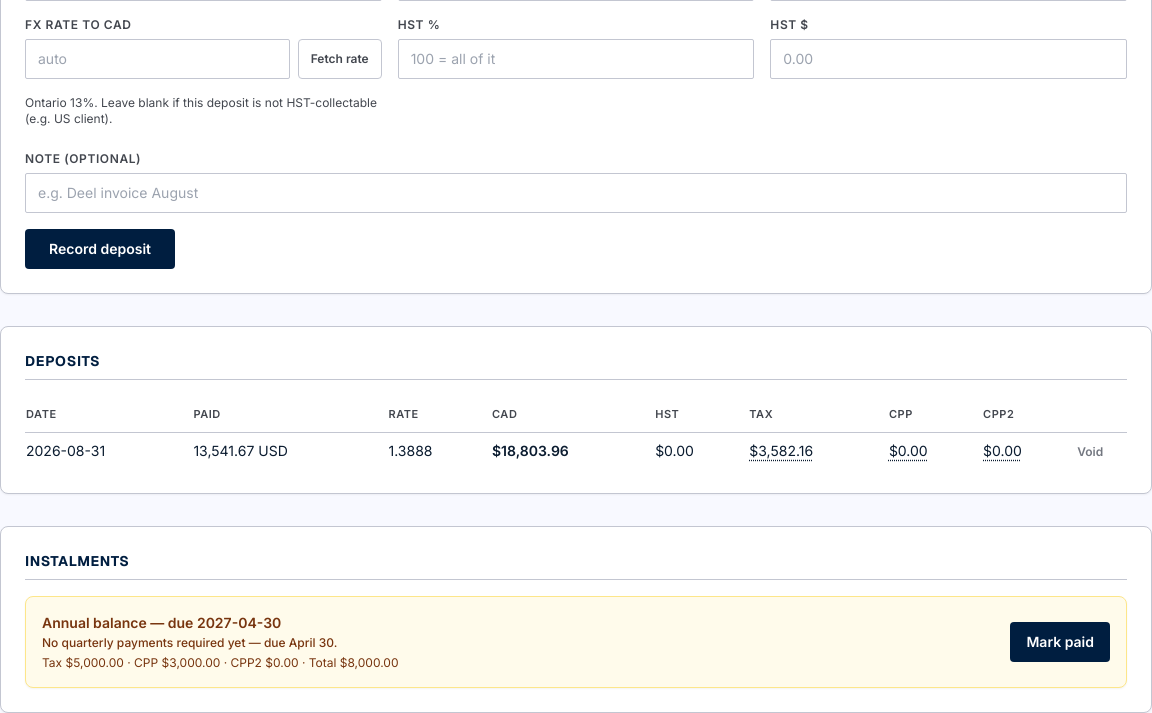
Test: SolePropDashboardView › shows a marginal-tax explanation after hovering a row
The image size is (1152, 713).
(page scrolled)
Check: the text "covers dollars" is not shown
Hover over the text "$3,582.16" at (781, 450), box [748,432,888,468]
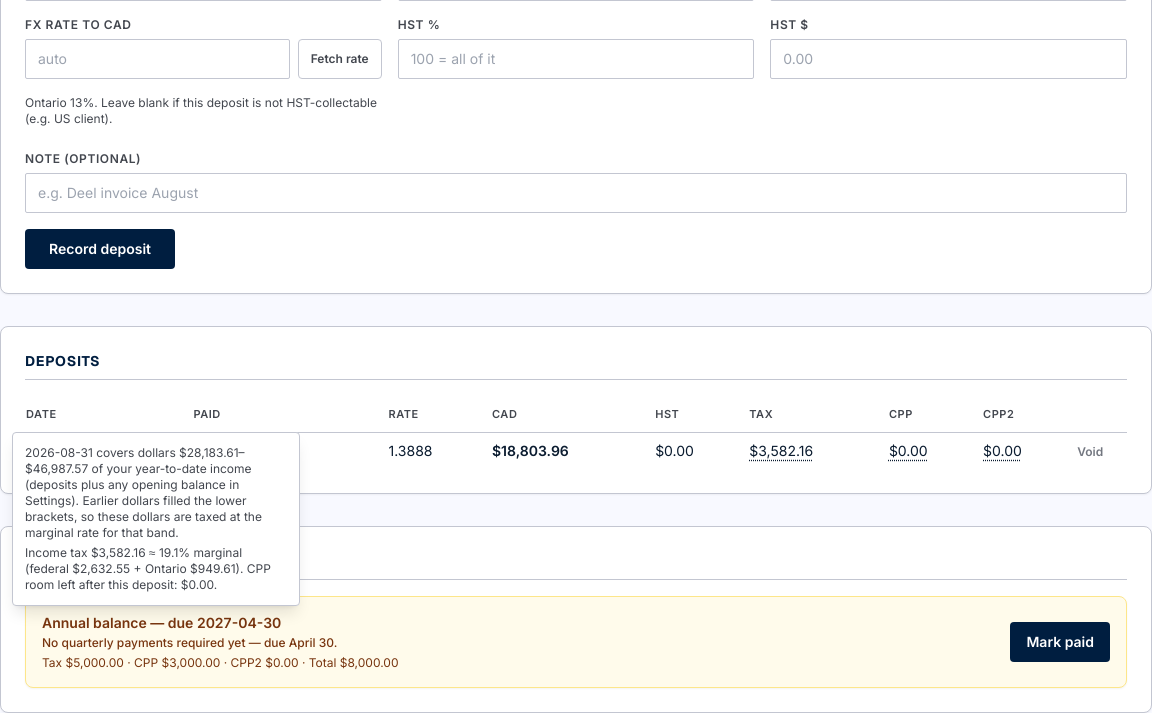
Check: the text "covers dollars" is shown, box [93,445,179,460]
Check: the text "19.1% marginal" is shown, box [25,545,287,593]
